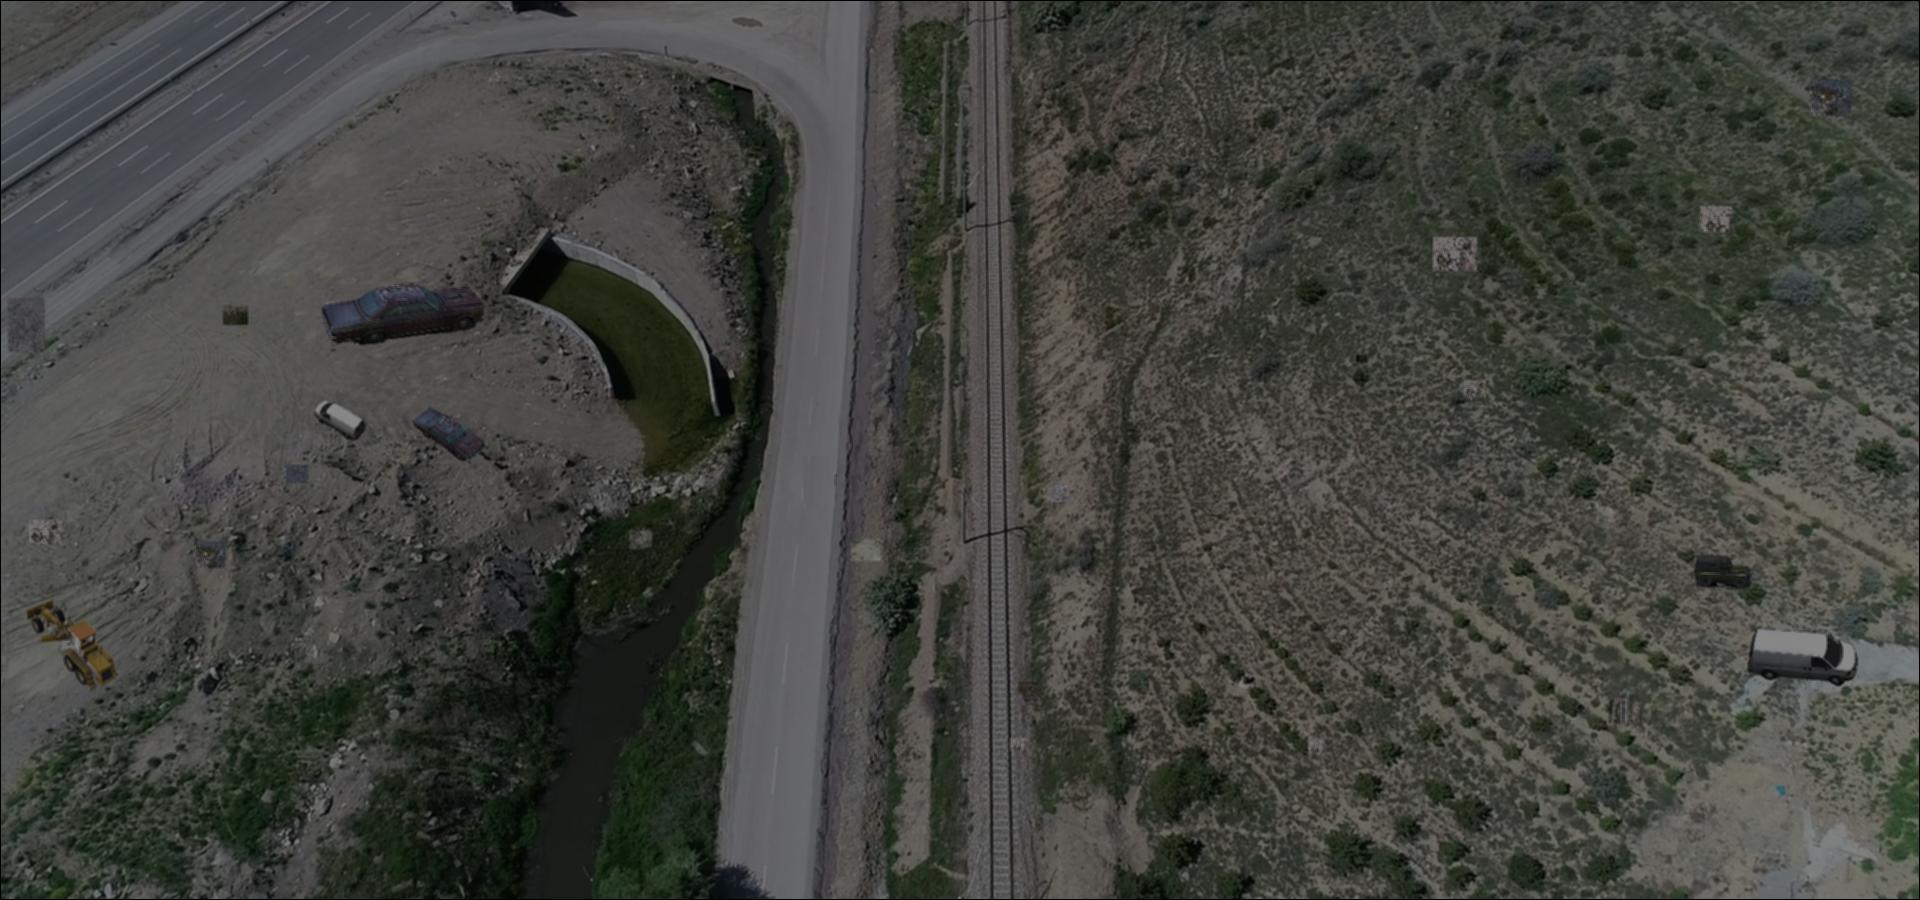arac: (320, 280, 486, 347), (22, 598, 119, 693), (1742, 628, 1861, 689), (409, 405, 487, 462), (313, 399, 366, 440), (1693, 555, 1751, 588)
